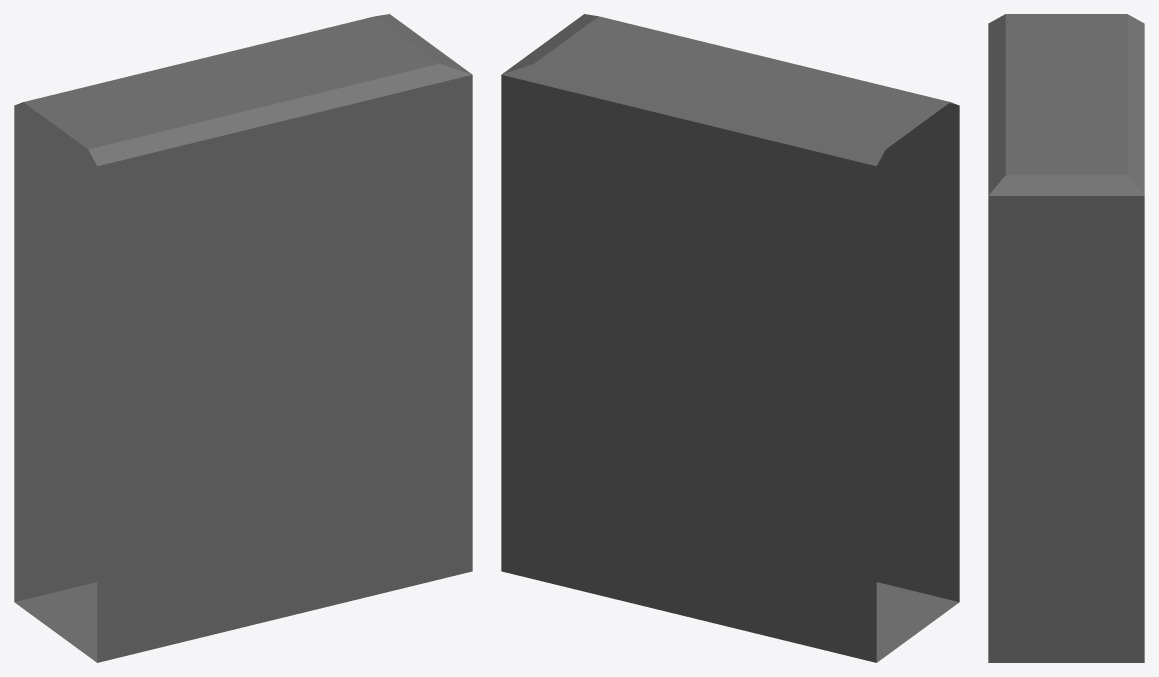
The model's file is Itr_Couch_Outside_Back_Right_03.FBX.
3 renders of one model, left to right at view 1: azimuth 30°, elevation 25°; view 2: azimuth 150°, elevation 25°; view 3: azimuth 270°, elevation 25°, orthographic. The views are drawn at different scales.
Visible parts, largest first — view 1: Itr_Couch_Outside_Back_Right_03; view 2: Itr_Couch_Outside_Back_Right_03; view 3: Itr_Couch_Outside_Back_Right_03.
Boxes of the visible parts, x1,y1,x2,y2 form: Itr_Couch_Outside_Back_Right_03: [14, 14, 472, 662]; Itr_Couch_Outside_Back_Right_03: [501, 14, 959, 662]; Itr_Couch_Outside_Back_Right_03: [988, 14, 1144, 662].
Size of the model in its own units: 18.79 by 24.24 by 7.19.
